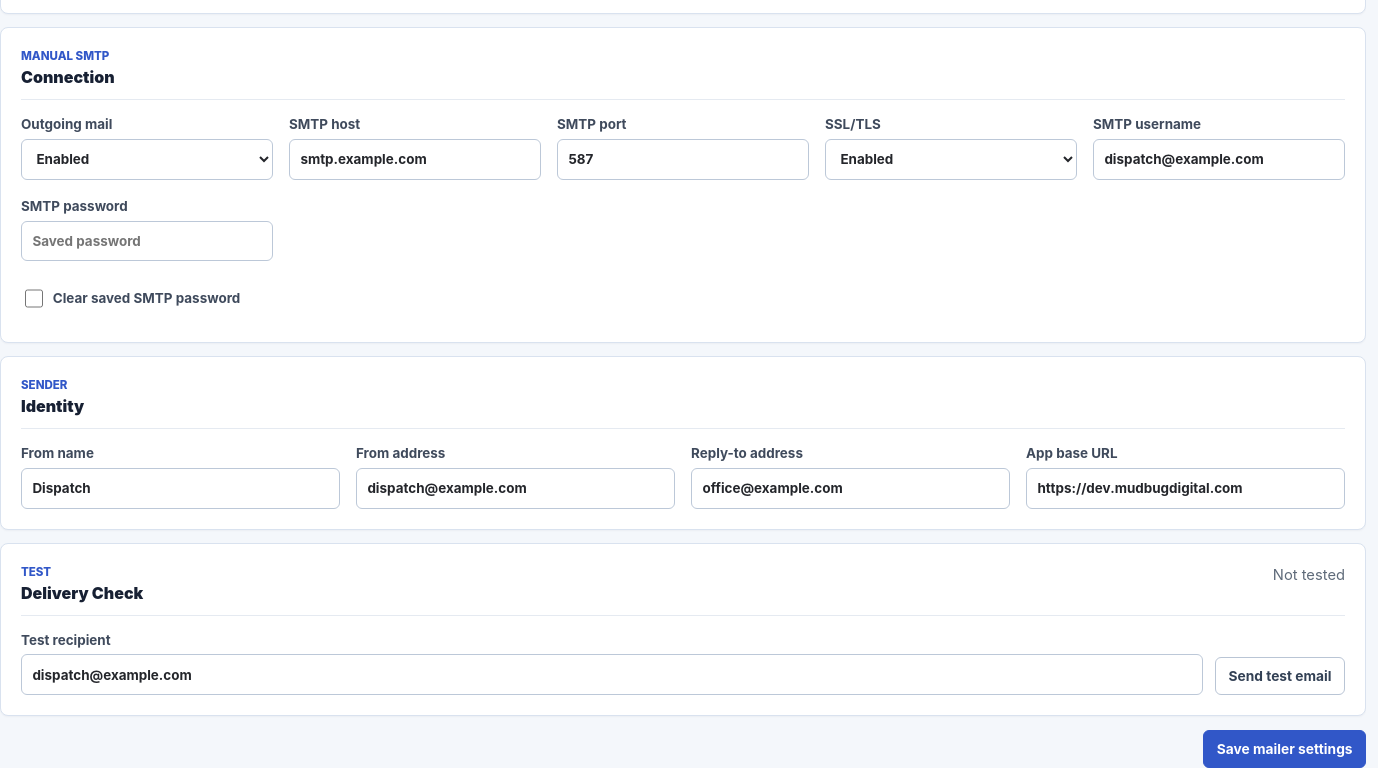
MailerSettingsPage › sends a test email through the saved mailer configuration
(page scrolled)
Step 1. Replace the text in the field labelled "Test recipient" with "owner@example.com" → coordinates (612, 675), box [21,654,1203,695]
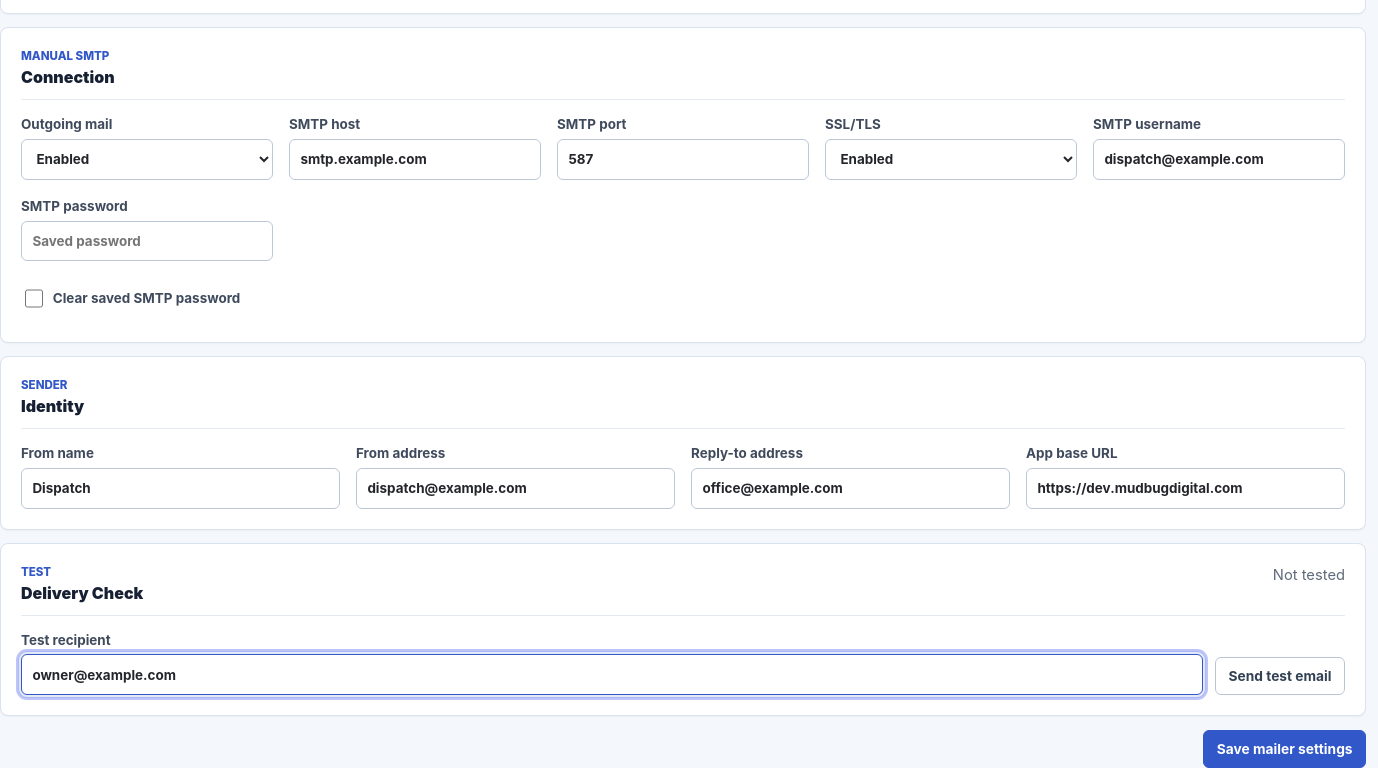
Step 2. Click the button "Send test email" → coordinates (1280, 676), box [1215,657,1345,695]
(page scrolled)
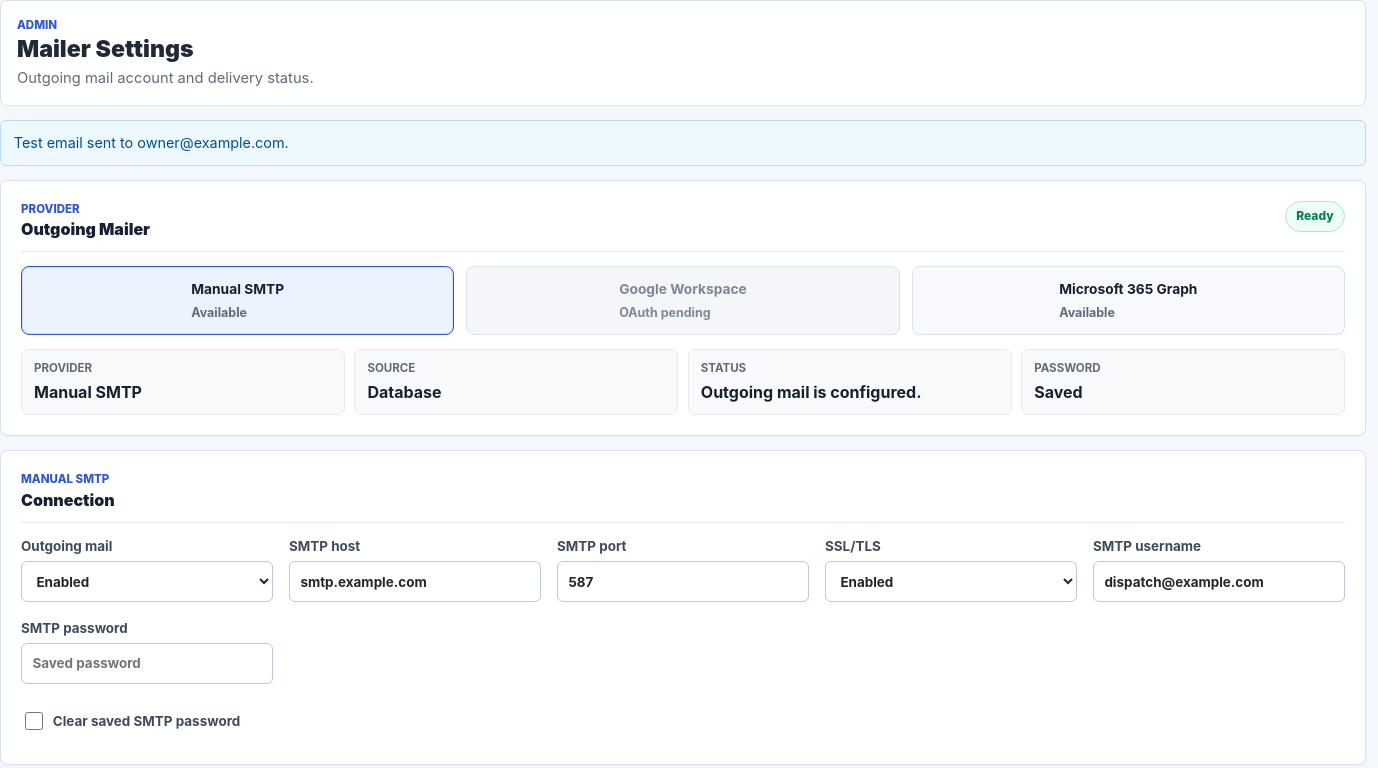
Check: the text "Test email sent to owner@example.com." is shown, box [0,120,1366,166]
